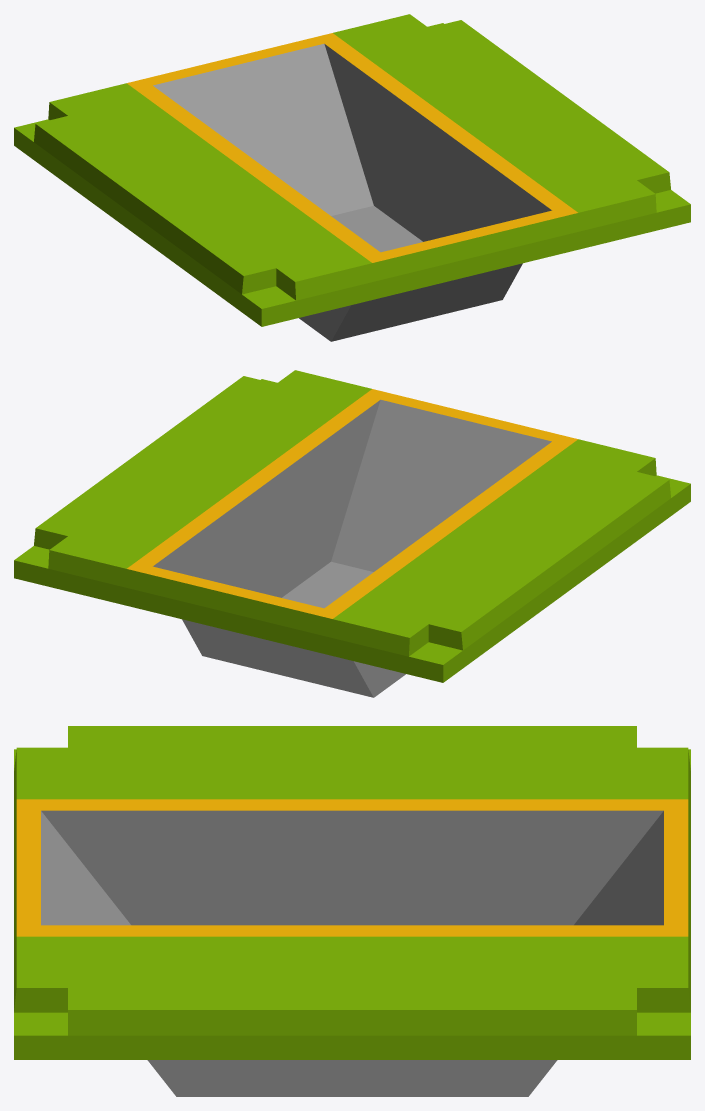
Rendered from epe_circuit_breaker.dae.
3 renders of one model, top to bottom at view 1: azimuth 30°, elevation 25°; view 2: azimuth 150°, elevation 25°; view 3: azimuth 270°, elevation 25°, orthographic. The views are drawn at different scales.
Parts seen in each view (by area): view 1: circuit_breaker; view 2: circuit_breaker; view 3: circuit_breaker.
Part boxes in pixels (x1,y1,x2,y2): circuit_breaker: [14, 14, 690, 341]; circuit_breaker: [14, 370, 690, 697]; circuit_breaker: [14, 726, 690, 1096].
Size of the model in its own units: 0.25 by 0.25 by 0.07.
